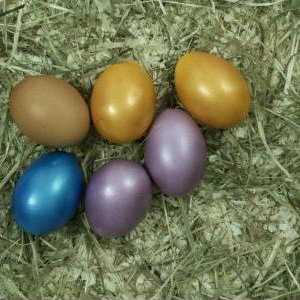egg: (11, 152, 83, 237), (174, 51, 251, 129), (9, 76, 89, 148), (143, 109, 207, 198), (83, 160, 154, 239), (91, 61, 155, 143)
